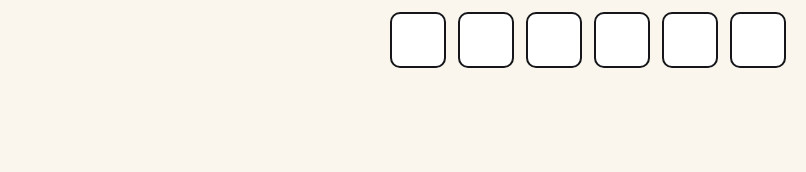
Test: CodeInput › avanza al escribir y avisa al completar
The width and height of the screenshot is (806, 172).
Click the field named "Dígito 1 de 6" at (418, 40), box x1=390 y1=12 x2=446 y2=68
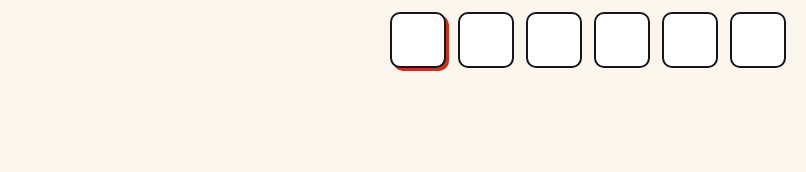
Type keys "123456"
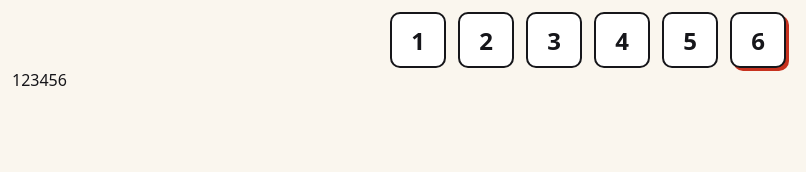
Result: the text with test id "value" reads "123456" at x1=12 y1=69 x2=67 y2=91
